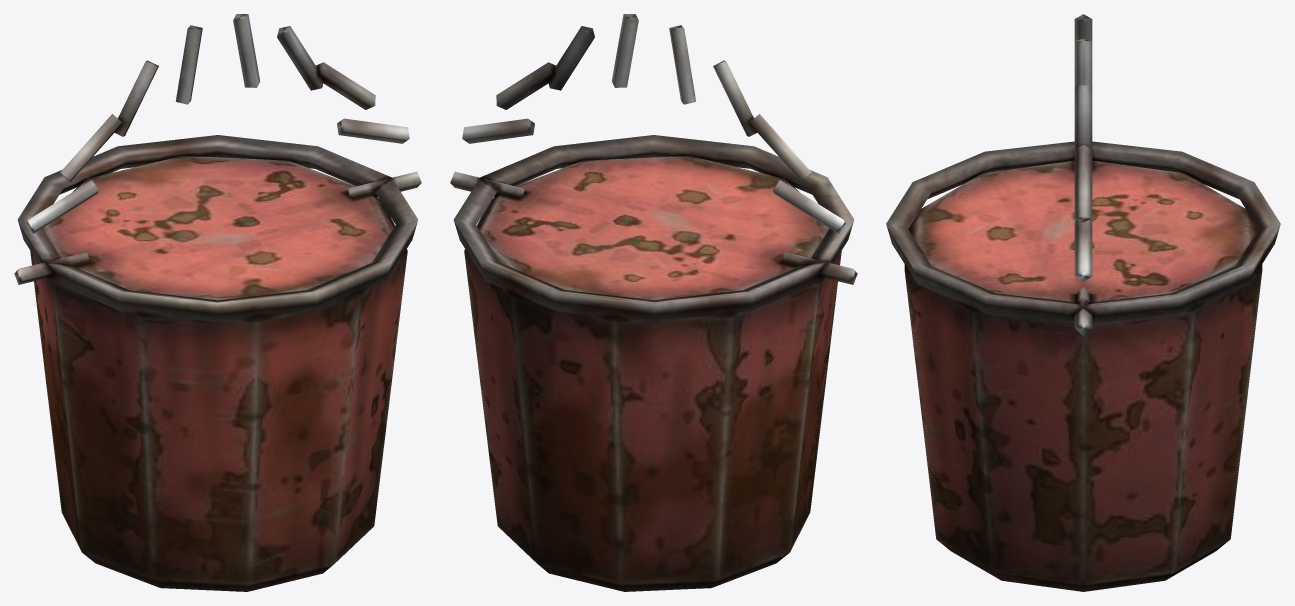
Rendered from balde.glb.
The picture shows the model from 3 angles, left to right: view 1: azimuth 30°, elevation 25°; view 2: azimuth 150°, elevation 25°; view 3: azimuth 270°, elevation 25°; orthographic projection.
Parts seen in each view (by area): view 1: balde; view 2: balde; view 3: balde.
Boxes of the visible parts, x1,y1,x2,y2 form: balde: [14, 14, 421, 591]; balde: [450, 14, 857, 591]; balde: [886, 14, 1280, 591].
Size of the model in its own units: 0.41 by 0.5033 by 0.357.
Materials: 1 (1 with a texture image).
